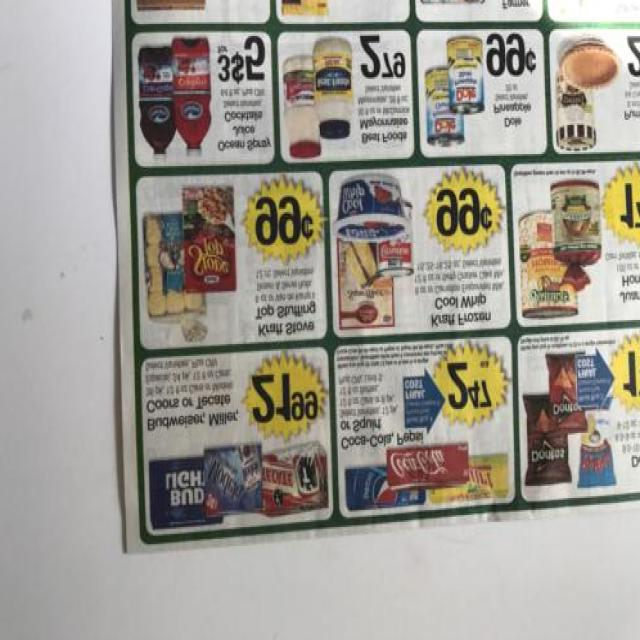kertas: (108, 0, 640, 560)
